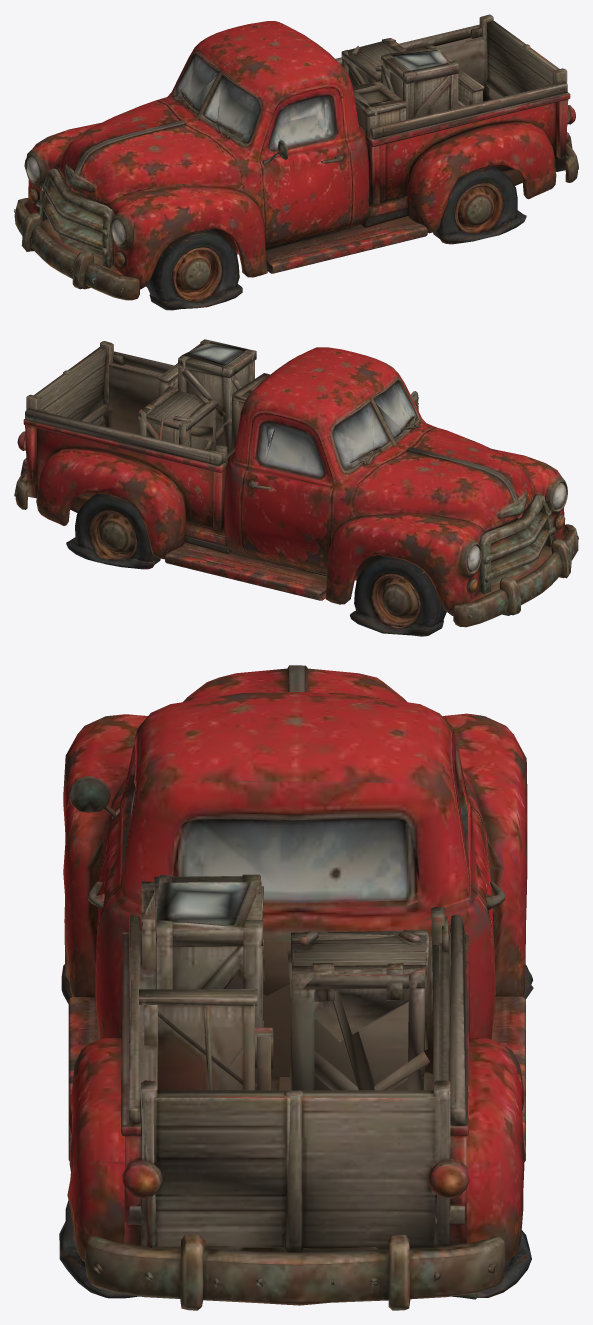
File: town_car_b.glb
3 renders of one model, top to bottom at view 1: azimuth 30°, elevation 25°; view 2: azimuth 150°, elevation 25°; view 3: azimuth 270°, elevation 25°, orthographic. The views are drawn at different scales.
Size of the model in its own units: 0.9531 by 0.3486 by 0.394.
Materials: 1 (1 with a texture image).
